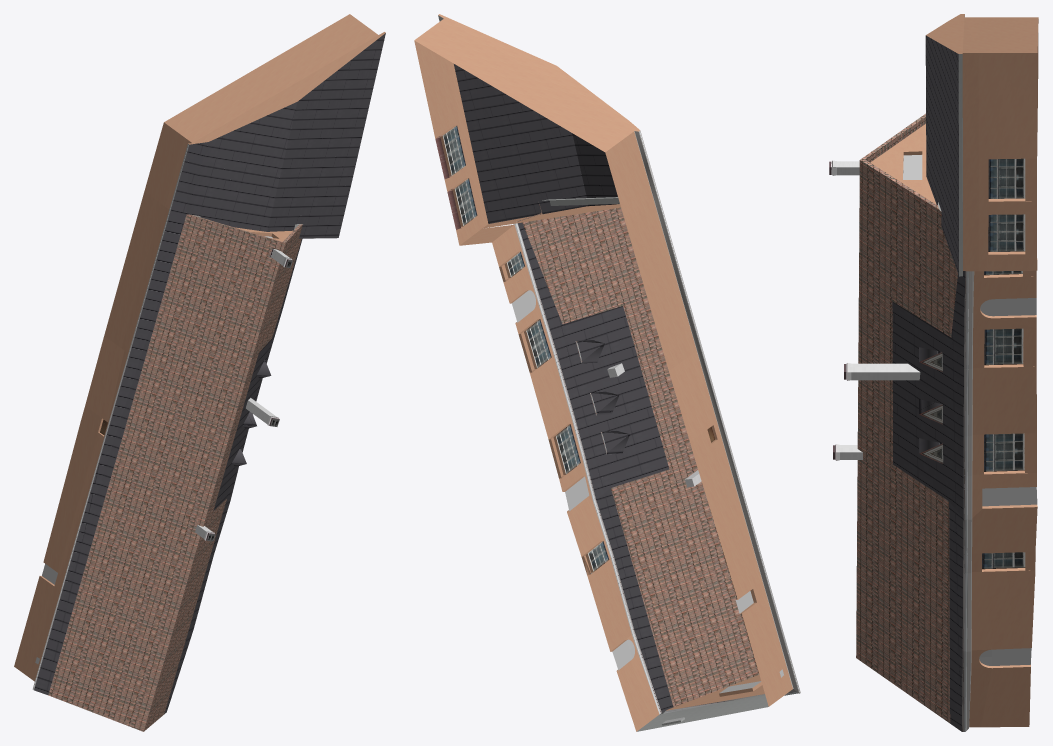
The model's file is Toom-Ryyti_8.obj.
3 renders of one model, left to right at view 1: azimuth 30°, elevation 25°; view 2: azimuth 150°, elevation 25°; view 3: azimuth 270°, elevation 25°, orthographic. The views are drawn at different scales.
Visible parts, largest first — view 1: Toom_Ryyti_8; view 2: Toom_Ryyti_8; view 3: Toom_Ryyti_8.
Part boxes in pixels (left/top/right/bottom): Toom_Ryyti_8: left=14, top=14, right=385, bottom=731; Toom_Ryyti_8: left=414, top=14, right=800, bottom=731; Toom_Ryyti_8: left=829, top=14, right=1038, bottom=731.
Size of the model in its own units: 25.83 by 44.07 by 10.23.
